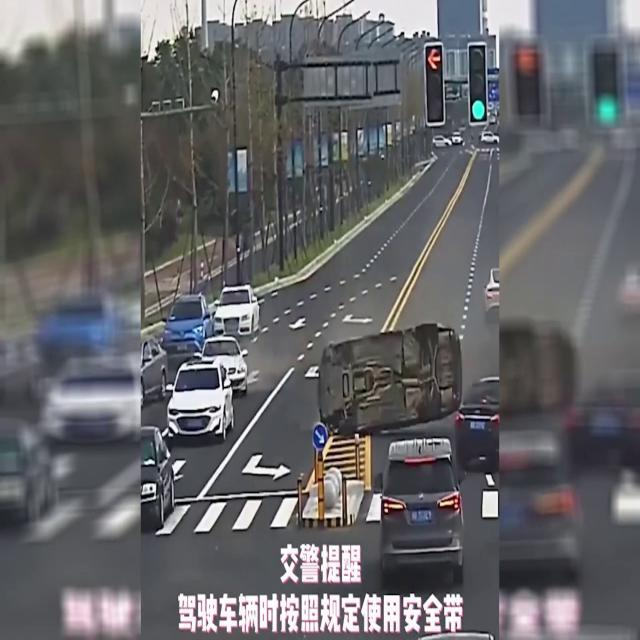single accident: (310, 336, 467, 442)
